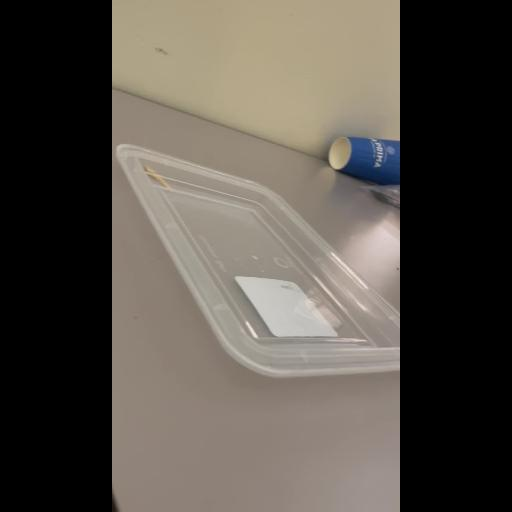rigid_plastic_lid: (116, 148, 396, 374)
